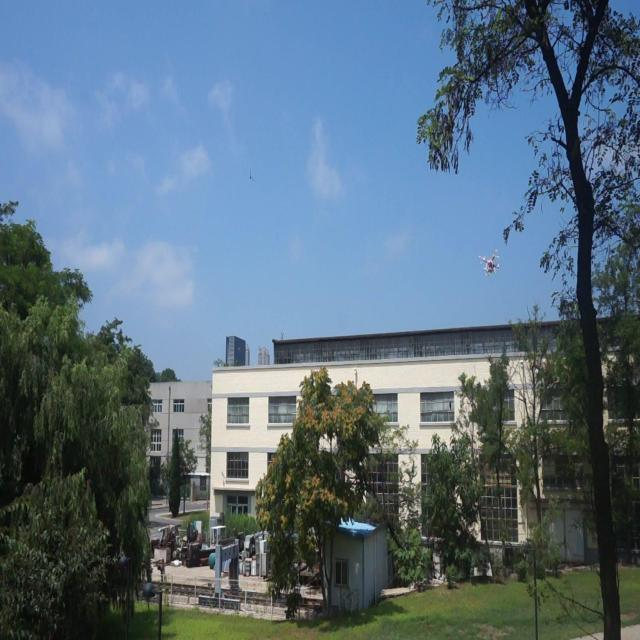drone: (476, 245, 504, 286)
